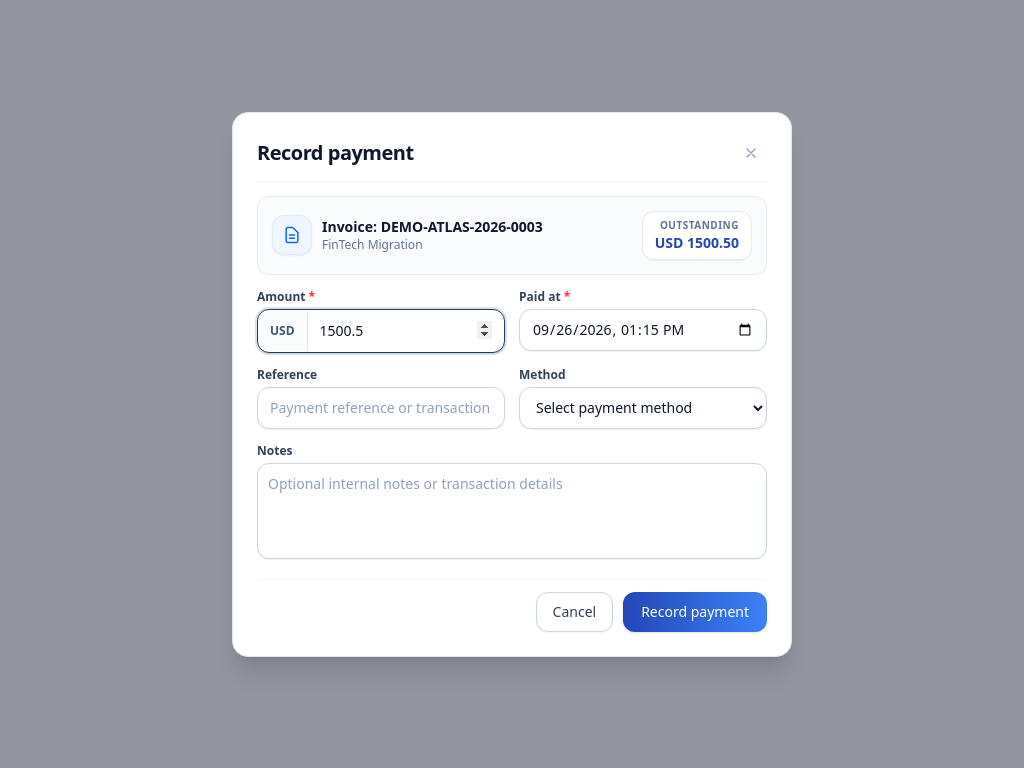
Test: PaymentRecordModal › shows error when amount exceeds outstanding balance
Replace the text in the number field labelled "Amount *" with "2000" at (406, 330), box top-left (308, 310), bottom-right (504, 352)
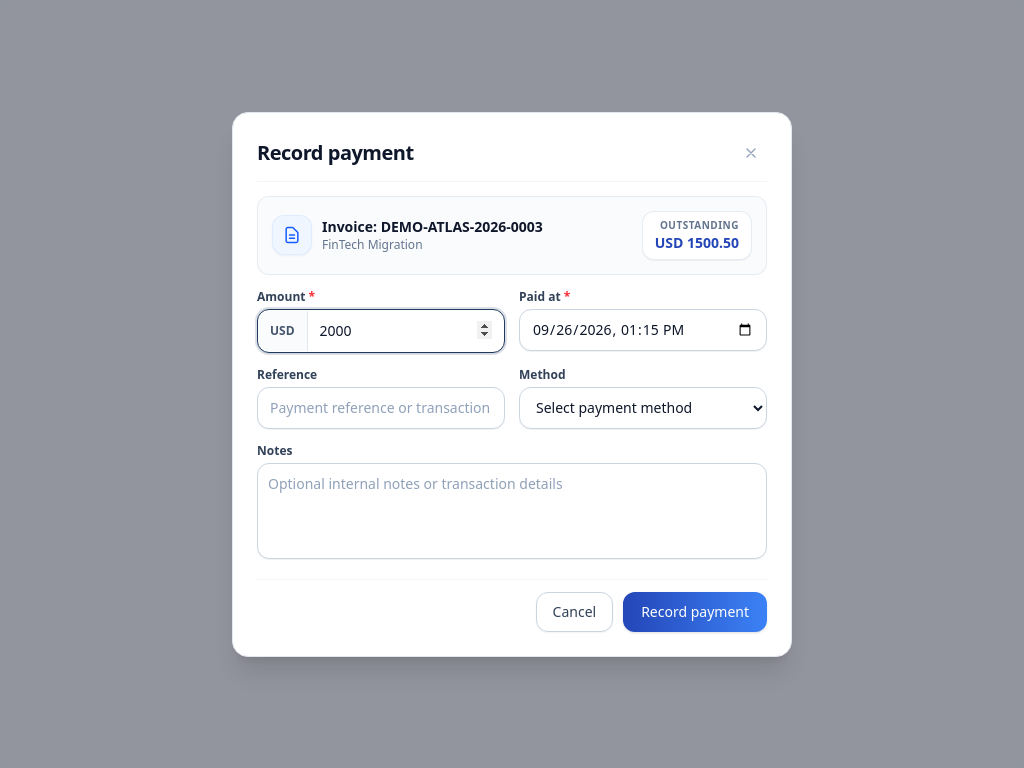
Click the button "Record payment" at (695, 612), box top-left (623, 592), bottom-right (767, 632)
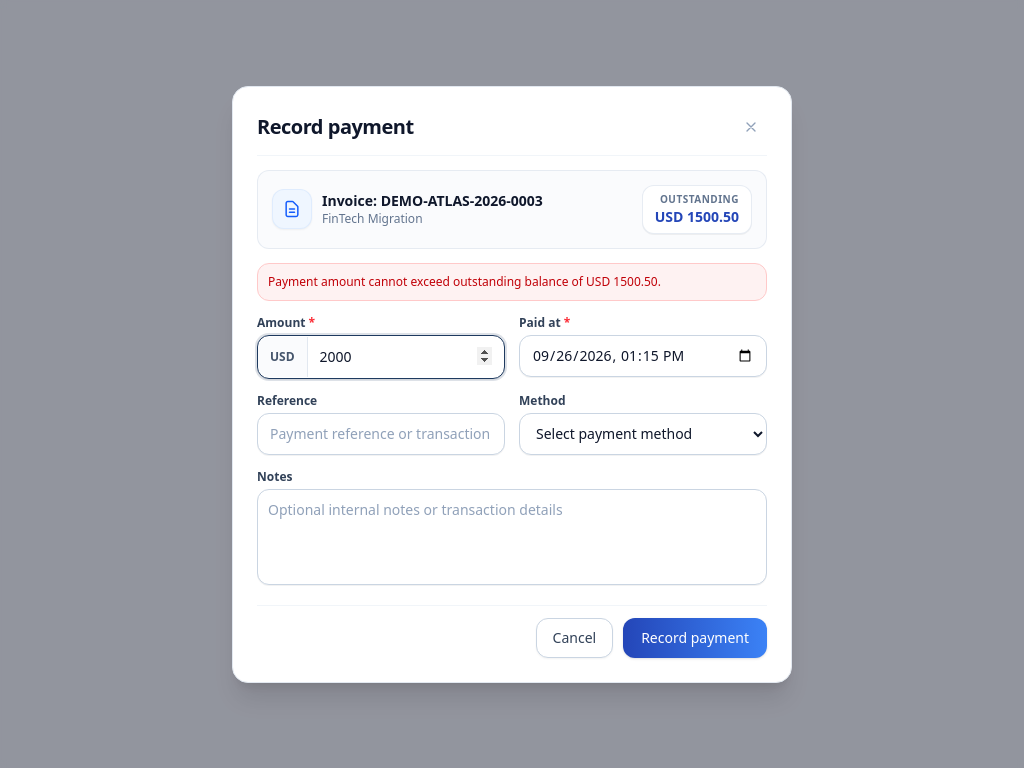
Check: the message reads "Payment amount cannot exceed outstanding balance of USD 1500.50.", box top-left (268, 272), bottom-right (661, 290)
